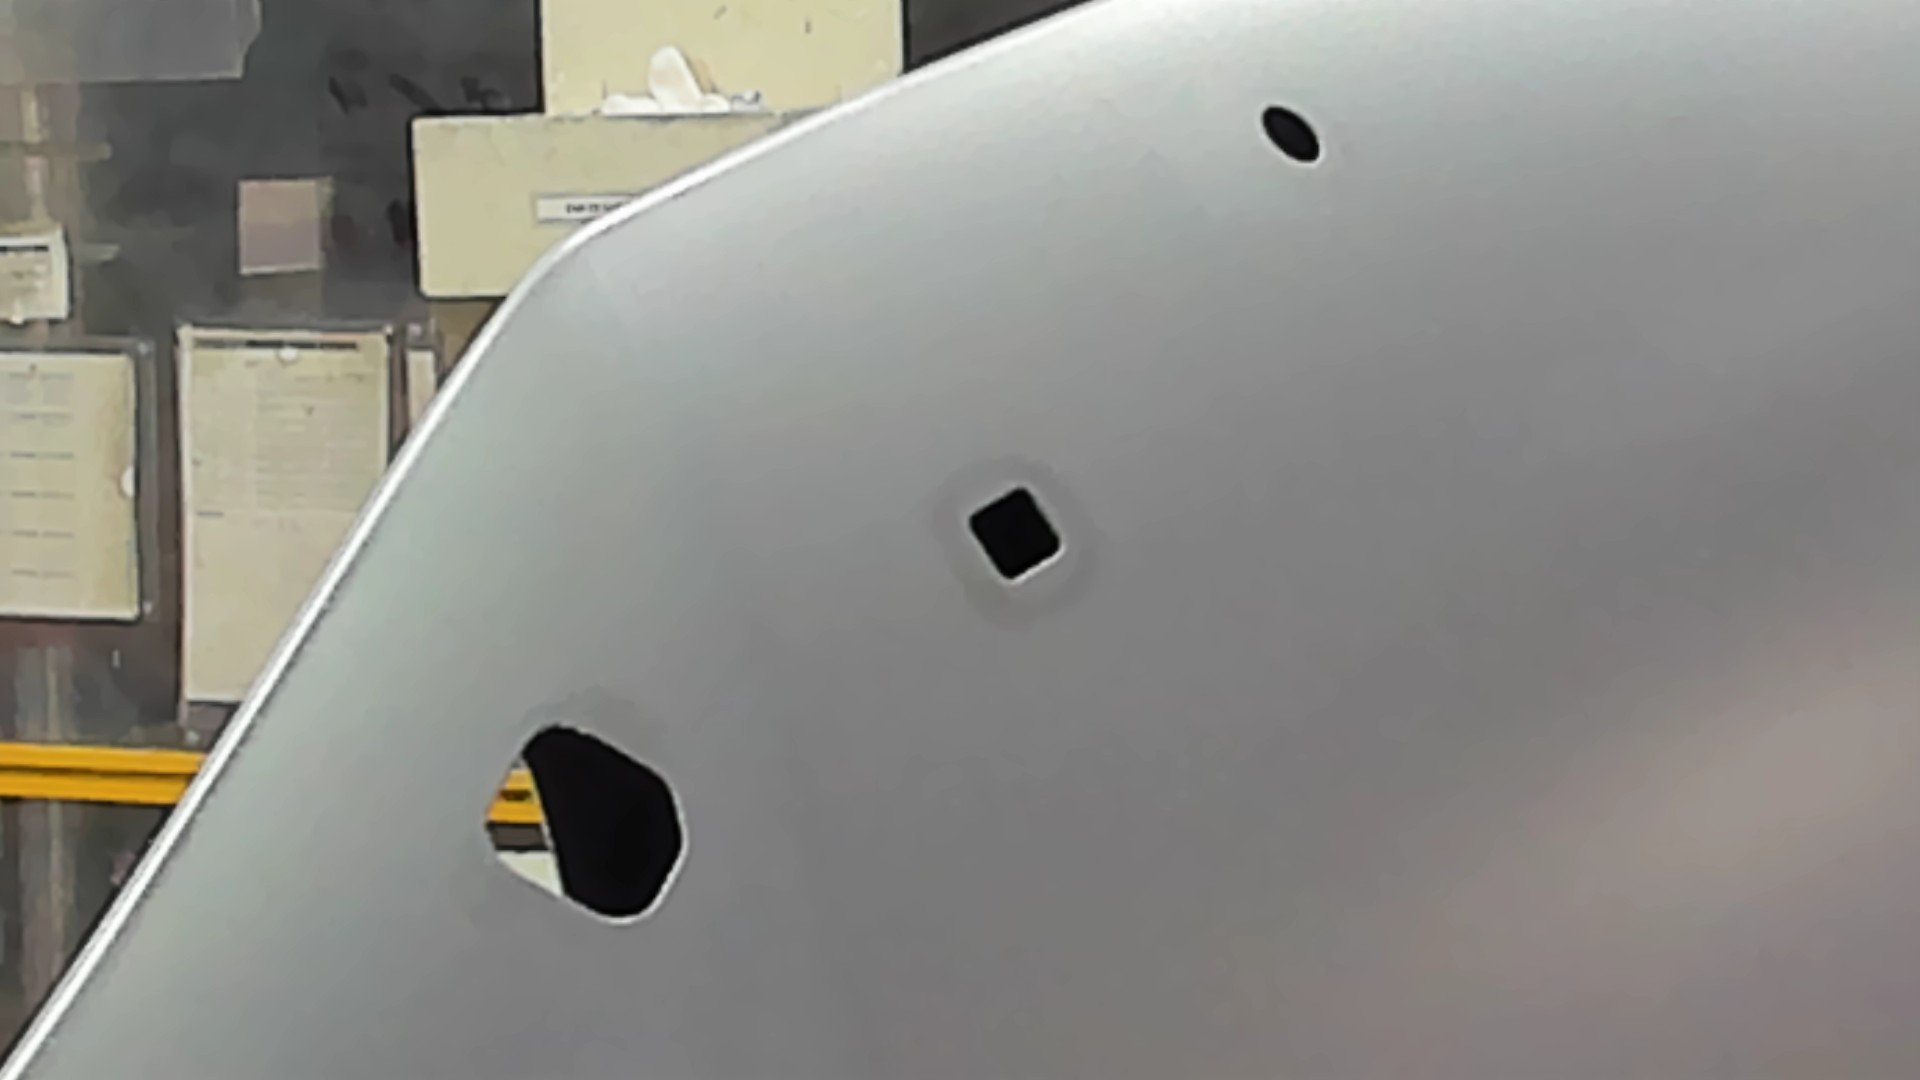chico: (1261, 102, 1324, 165)
grande: (483, 717, 691, 931)
mediano: (961, 477, 1069, 587)
